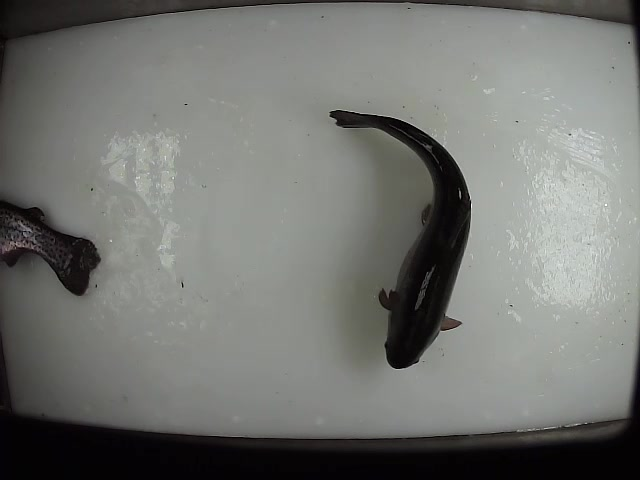fish: (328, 108, 475, 370), (1, 200, 106, 300)
